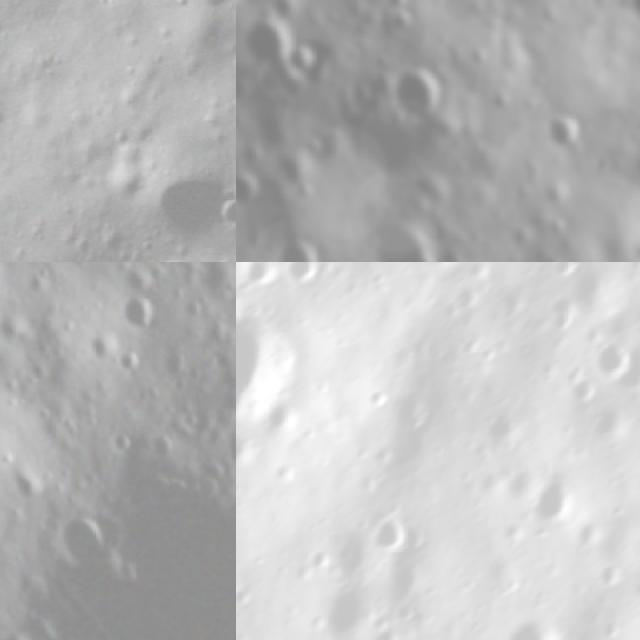crater: (0, 360, 236, 640), (133, 157, 236, 262), (236, 302, 299, 431), (42, 500, 122, 580), (106, 281, 172, 345), (319, 571, 380, 640), (390, 63, 452, 128), (192, 403, 236, 492), (370, 212, 445, 262), (525, 465, 586, 526), (542, 102, 593, 167), (76, 319, 129, 372), (496, 606, 568, 640), (585, 334, 632, 382), (368, 506, 412, 554), (260, 391, 308, 433), (106, 337, 150, 382), (386, 554, 429, 599), (185, 0, 236, 32), (236, 162, 265, 217), (281, 40, 323, 77), (596, 554, 632, 596), (274, 233, 325, 262), (540, 292, 580, 326), (0, 613, 50, 640), (494, 275, 529, 313), (449, 278, 488, 309), (241, 262, 280, 287), (388, 9, 417, 42), (621, 340, 640, 389), (284, 262, 323, 285), (536, 262, 574, 282), (360, 380, 388, 407), (625, 0, 640, 27), (378, 0, 406, 9)
